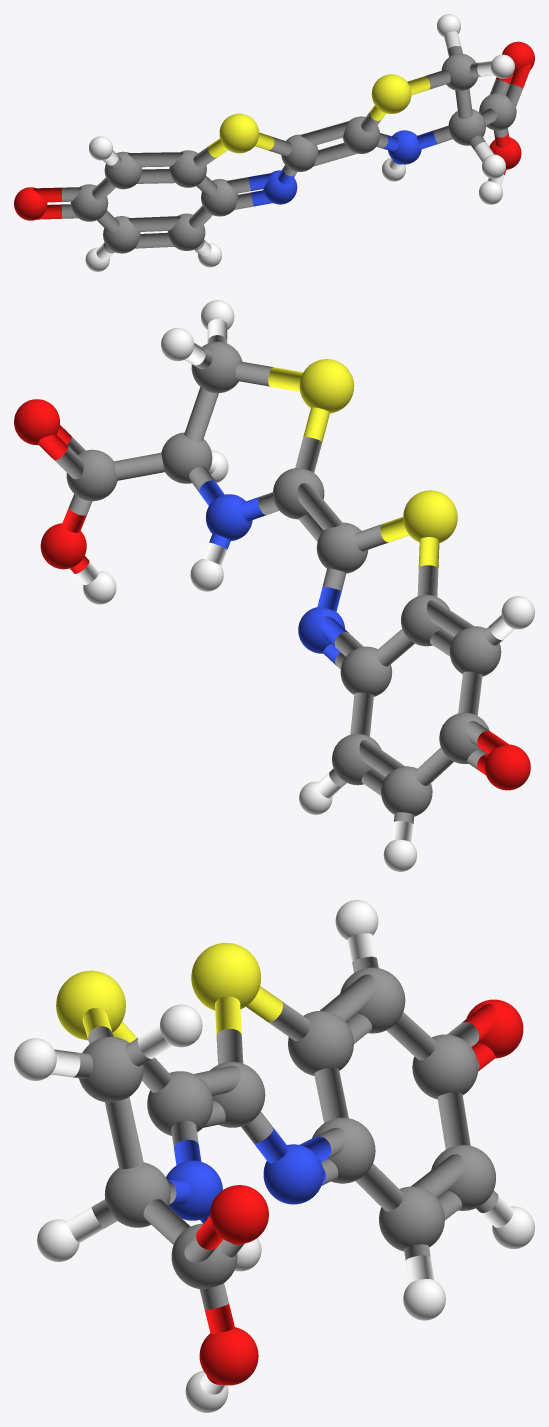
File: jsmolto.obj
3 views of the same model, one above another, from view 1: azimuth 30°, elevation 25°; view 2: azimuth 150°, elevation 25°; view 3: azimuth 270°, elevation 25° (orthographic). The views are drawn at different scales.
Visible parts, largest first — view 1: S2_Atom, S1_Atom, C11_Atom, C10_Atom, C17_Atom, C13_Atom, C18_Atom, C9_Atom, C14_Atom, C8_Atom, C15_Atom, C16_Atom (+24 smaller); view 2: S1_Atom, S2_Atom, C14_Atom, C18_Atom, C15_Atom, C11_Atom, C12_Atom, C8_Atom, C9_Atom, O5_Atom, O4_Atom, O3_Atom (+25 smaller); view 3: S2_Atom, S1_Atom, C17_Atom, C16_Atom, C13_Atom, C8_Atom, C10_Atom, C9_Atom, O4_Atom, N7_Atom, O3_Atom, C18_Atom (+36 smaller).
Part boxes in pixels (x1,y1,x2,y2): S2_Atom: (219,113,259,153); S1_Atom: (371,74,411,113); C11_Atom: (281,134,318,171); C10_Atom: (343,116,380,153); C17_Atom: (70,184,108,221); C13_Atom: (169,150,206,187); C18_Atom: (103,216,140,253); C9_Atom: (441,53,477,90); C14_Atom: (201,179,238,216); C8_Atom: (448,109,485,145); C15_Atom: (104,151,142,189); C16_Atom: (168,213,205,250); S1_Atom: (299,359,354,413); S2_Atom: (403,490,457,543); C14_Atom: (340,646,392,696); C18_Atom: (381,766,432,816); C15_Atom: (449,626,501,676); C11_Atom: (316,522,368,573); C12_Atom: (66,449,117,501); C8_Atom: (161,432,212,483); C9_Atom: (191,341,242,393); O5_Atom: (484,744,530,790); O4_Atom: (14,399,59,445); O3_Atom: (40,523,86,569); S2_Atom: (191,943,260,1010); S1_Atom: (56,970,125,1040); C17_Atom: (412,1034,478,1099); C16_Atom: (379,1186,444,1251); C13_Atom: (288,1011,353,1075); C8_Atom: (104,1162,170,1227); C10_Atom: (147,1071,213,1135); C9_Atom: (79,1036,143,1102); O4_Atom: (210,1185,268,1243); N7_Atom: (263,1144,323,1204); O3_Atom: (199,1327,258,1385); C18_Atom: (431,1145,495,1210).
Bounding box in the file's own units: 10.68 × 6.02 × 6.17.
